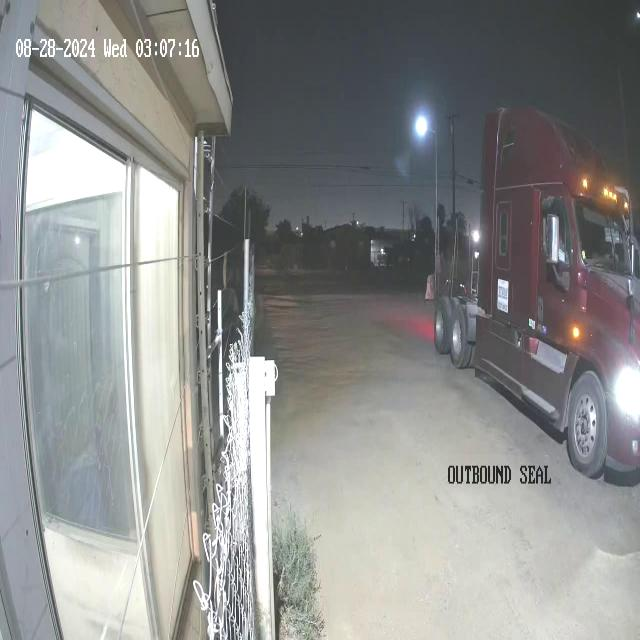BOBTAIL: (431, 103, 639, 480)
